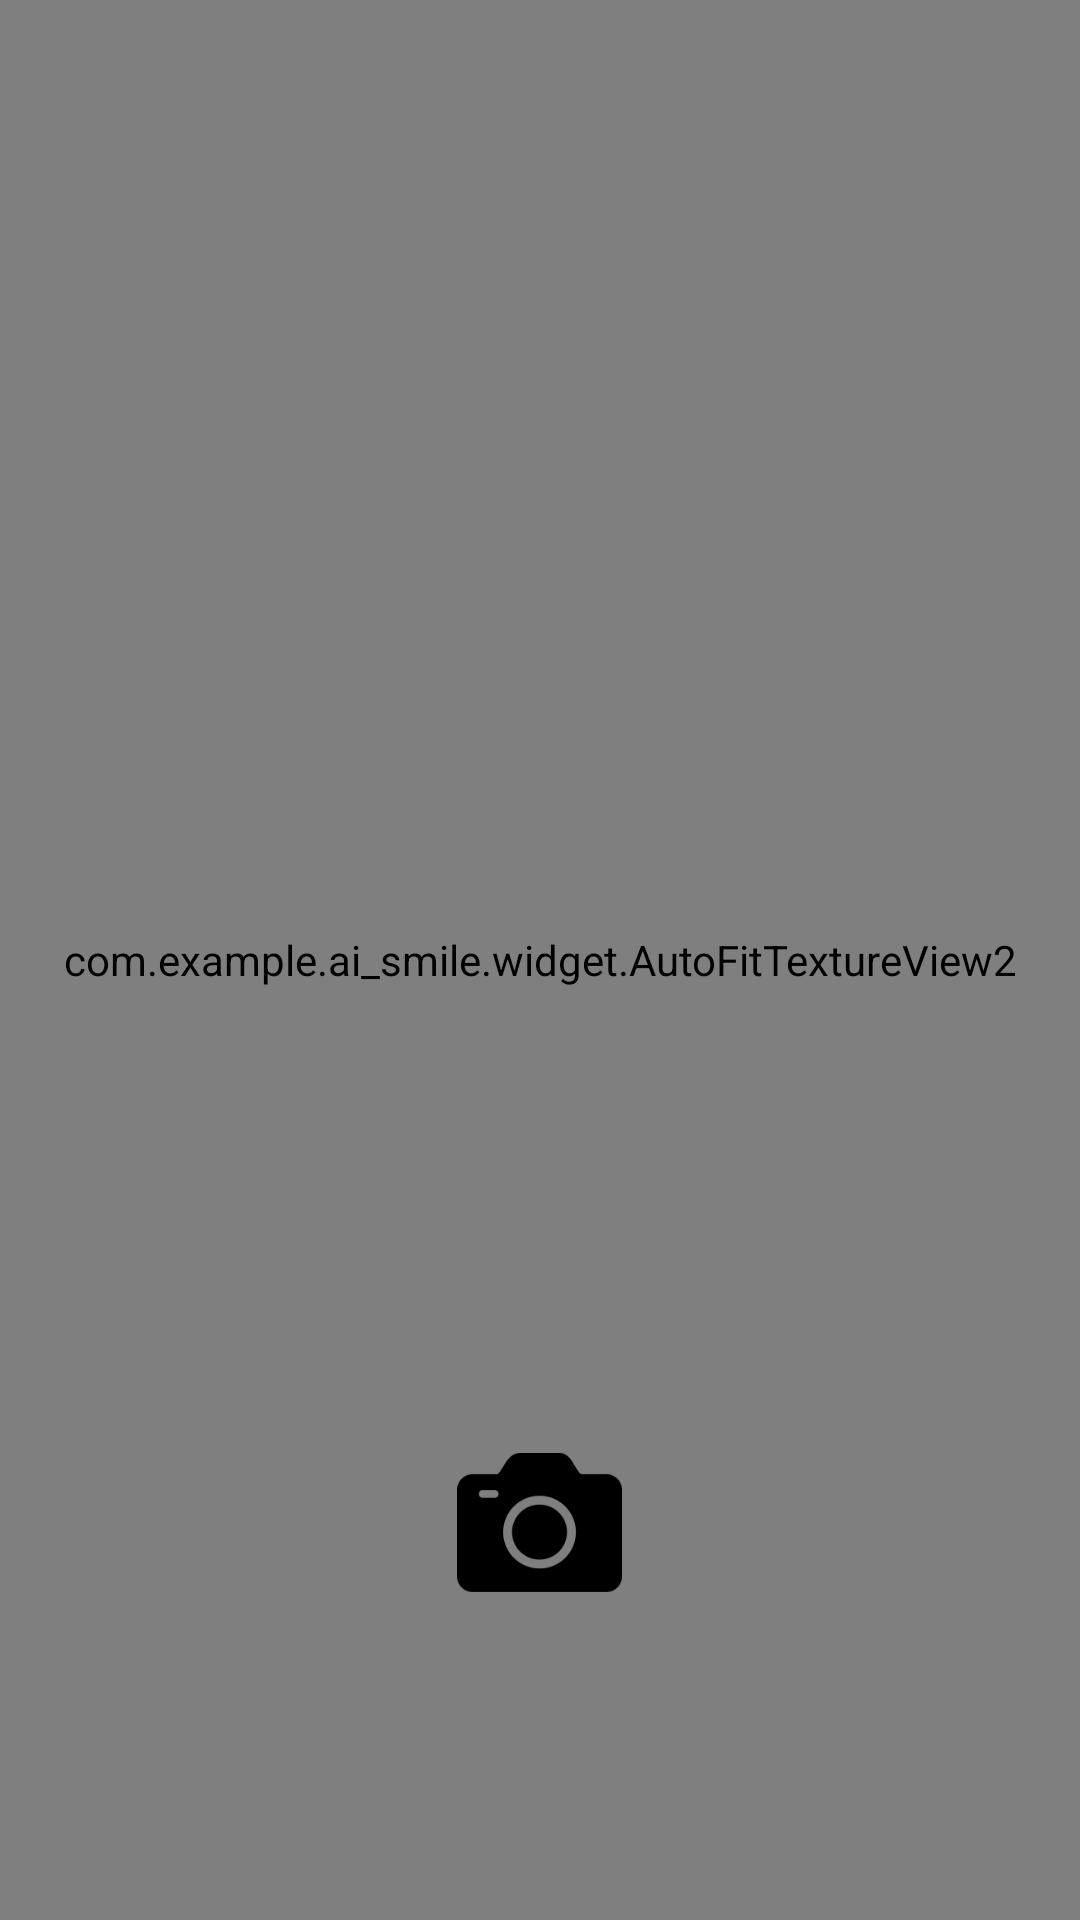

Where icons sit on this 1080px×1920px app screen, as [x1, y1, x2, y2]:
camera: [457, 1453, 622, 1592]
